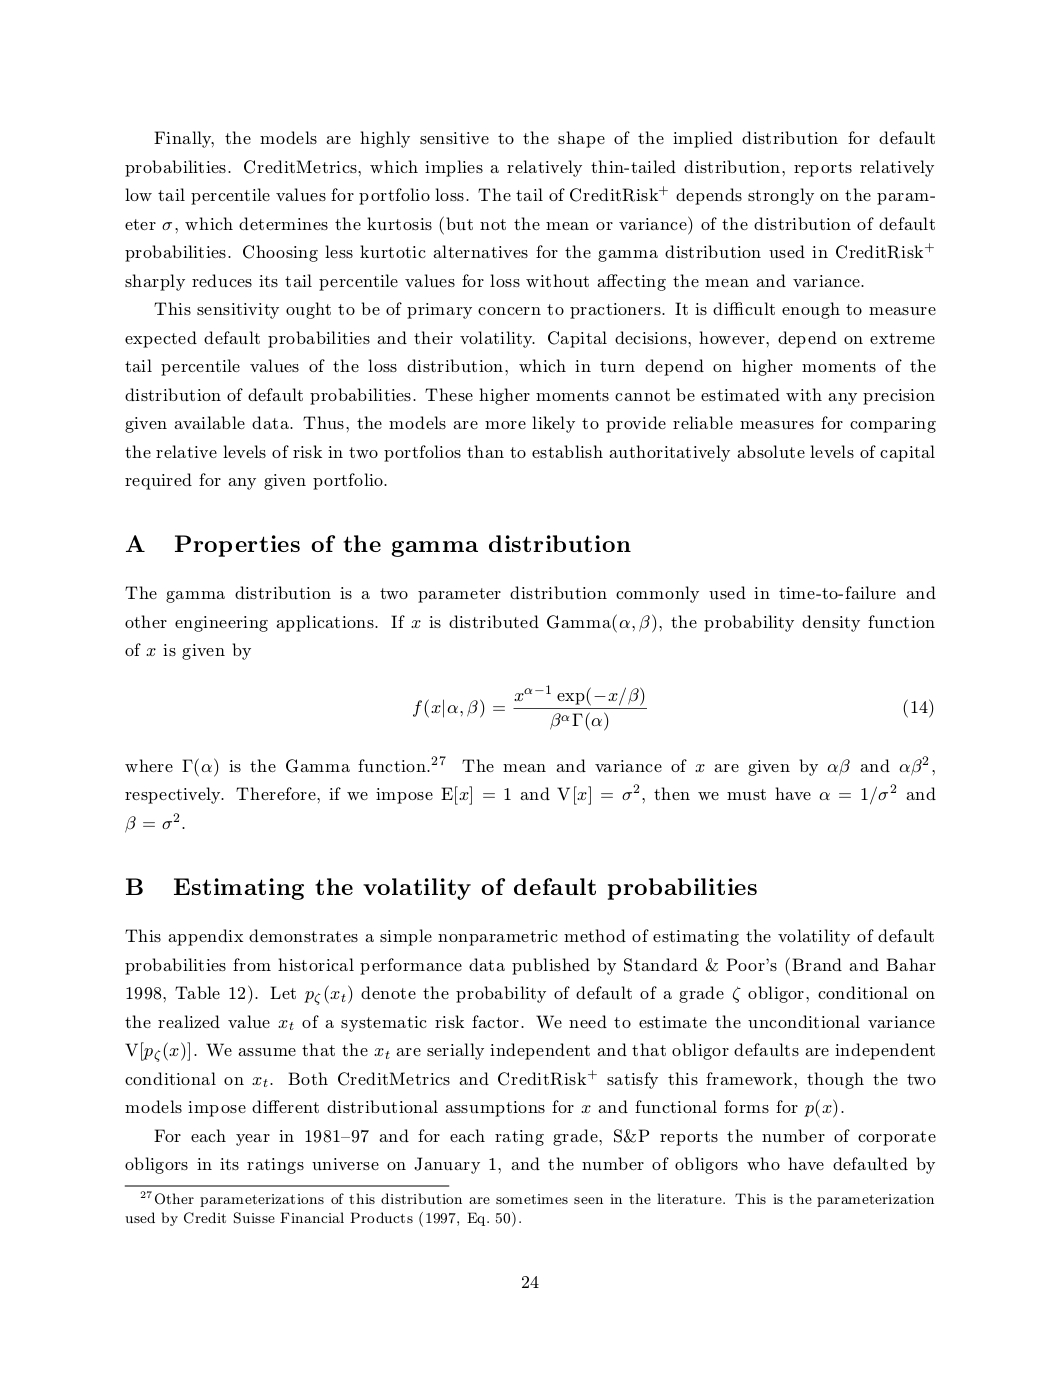formula: (413, 684, 933, 731)
